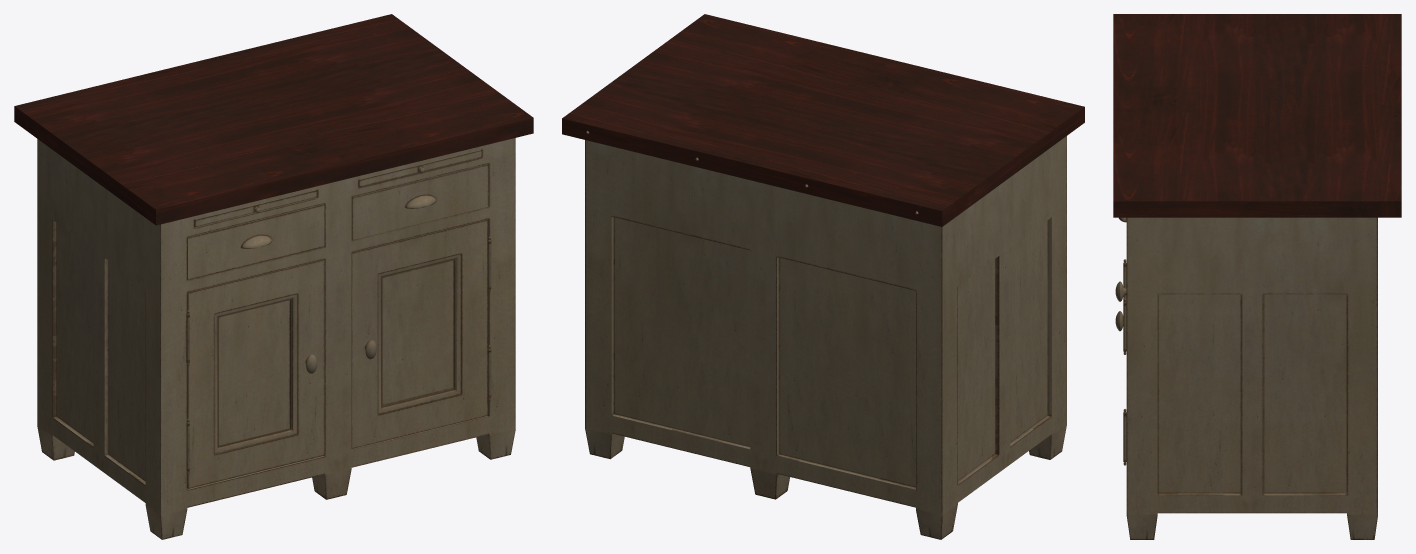
Rendered from example101.glb.
3 renders of one model, left to right at view 1: azimuth 30°, elevation 25°; view 2: azimuth 150°, elevation 25°; view 3: azimuth 270°, elevation 25°, orthographic.
Parts seen in each view (by area): view 1: Buffer Layer (×2); view 2: Buffer Layer (×2); view 3: Buffer Layer (×2).
Boxes of the visible parts, left/top/right/bottom form: Buffer Layer (×2): left=14, top=14, right=533, bottom=539; Buffer Layer (×2): left=562, top=14, right=1084, bottom=539; Buffer Layer (×2): left=1113, top=14, right=1401, bottom=539.
Bounding box in the file's own units: 1.02 × 0.8772 × 0.663.
Materials: 3 (2 with a texture image).
